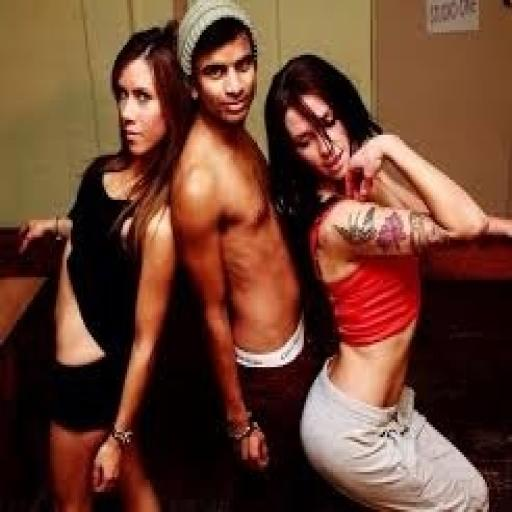dancing: (262, 50, 508, 509), (12, 20, 192, 509)
